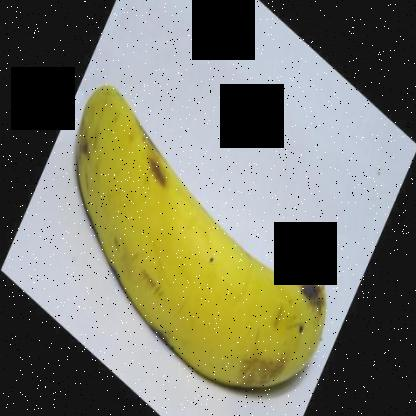freshripe: (62, 67, 344, 404)
